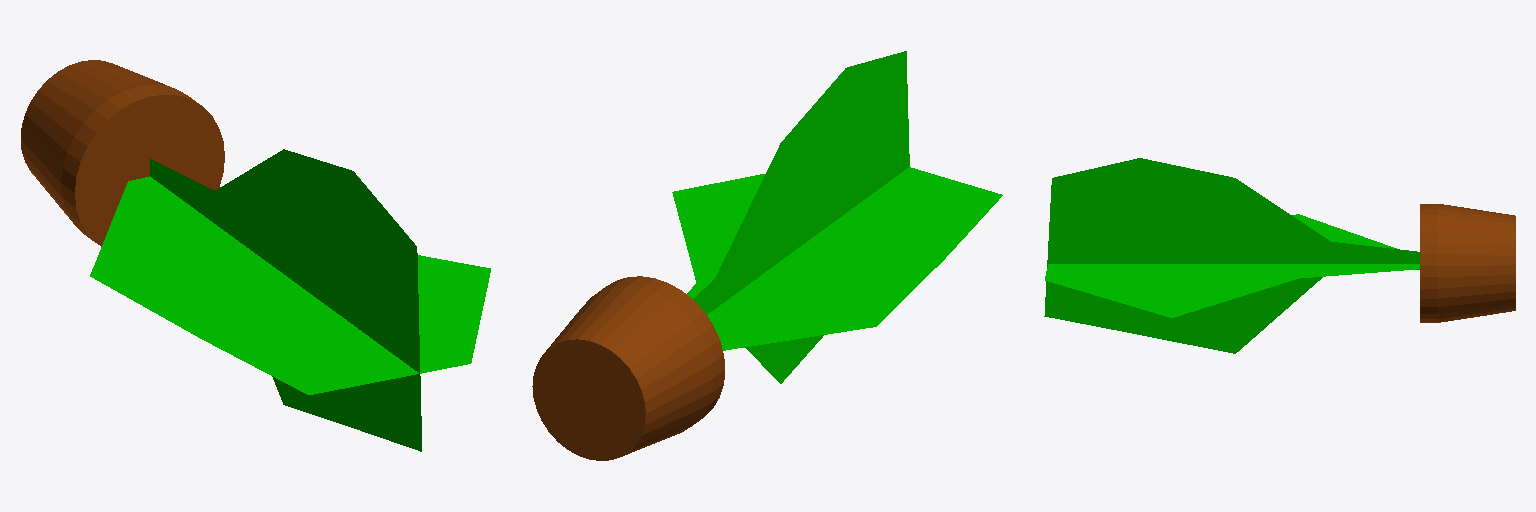
robot.urdf — room_with_potplant:
<?xml version="1.0"?>
<robot name="room_with_potplant">
  <link name="base">
    <visual>
      <origin xyz="-0.0 0. -0.2" rpy="1.5708 0 0" />
      <!-- Use the mesh's own materials for visualization -->
      <geometry>
           <mesh filename="../dae/plant1.dae" />
      </geometry>
    </visual>
    <collision>
      <origin xyz="0 0 0" rpy="0 0 0" />
      <geometry>
        <cylinder radius="0.125" length="0.3" />
      </geometry>
    </collision>
    <inertial>
      <origin xyz="0 0 0" rpy="0 0 0" />
      <mass value="0.25" />
      <inertia ixx="0.01" ixy="0" ixz="0" iyy="0.01" iyz="0" izz="0.01" />
    </inertial>
  </link>
</robot>

--- Render facts (derived) ---
Views: 3 orthographic renders of the robot side by side, from view 1: azimuth 30°, elevation 25°; view 2: azimuth 150°, elevation 25°; view 3: azimuth 270°, elevation 25°.
Model room_with_potplant with 1 links and 0 joints (none), rooted at base, posed every joint at zero.
Links seen in each view (by area): view 1: base; view 2: base; view 3: base.
Boxes of the visible links, <box> form: base: <box>21,60,490,451</box>; base: <box>532,51,1002,460</box>; base: <box>1044,158,1515,353</box>.
Size in the robot's own frame: 0.6433 by 1.23 by 0.5665 metres.
1 mesh visuals loaded from 1 distinct referenced files (1 Collada DAE).